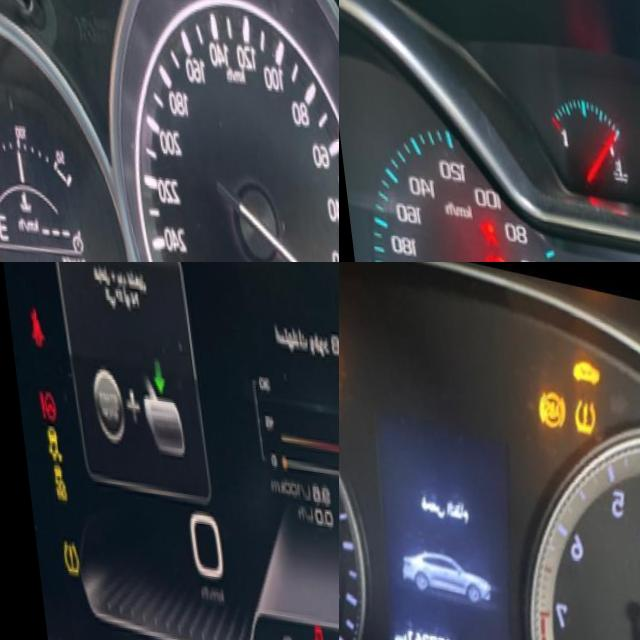Electronic Power Steering: (28, 384, 51, 428)
security: (561, 336, 606, 380)
